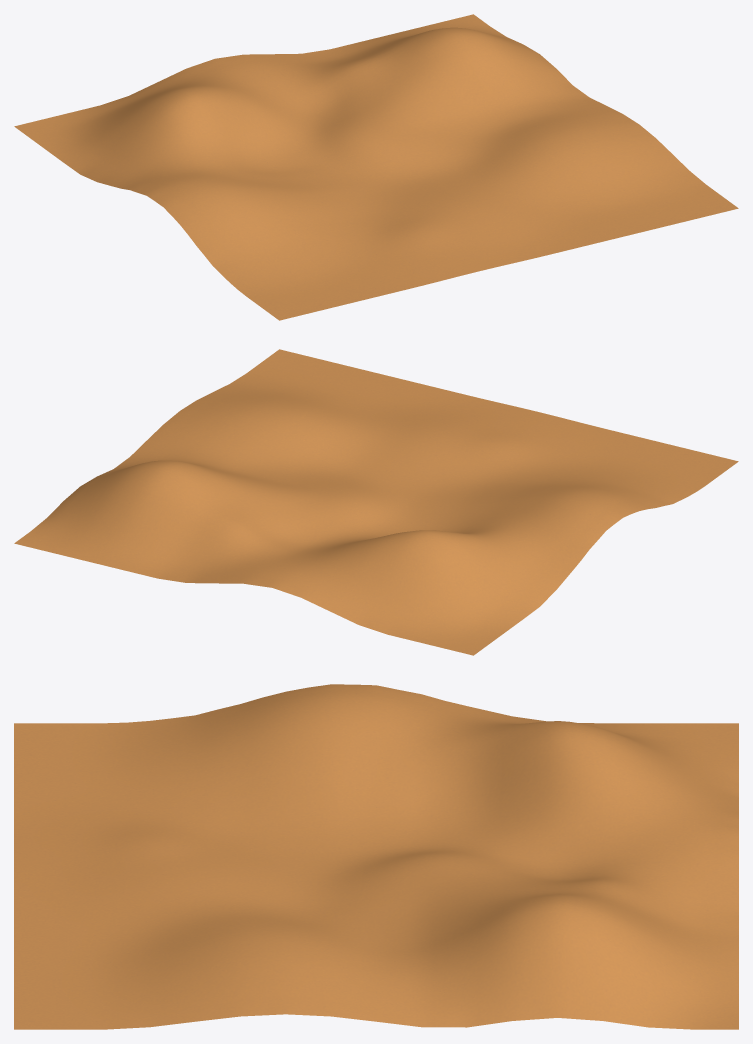
File: sand_dunes.glb
3 views of the same model, one above another, from view 1: azimuth 30°, elevation 25°; view 2: azimuth 150°, elevation 25°; view 3: azimuth 270°, elevation 25° (orthographic). The views are drawn at different scales.
Visible parts, largest first — view 1: sand; view 2: sand; view 3: sand.
Boxes of the visible parts, <box> form: sand: <box>14,14,738,320</box>; sand: <box>14,349,738,655</box>; sand: <box>14,684,738,1029</box>.
Bounding box in the file's own units: 121 × 12.3 × 121.
Materials: 1 (1 with a texture image).
